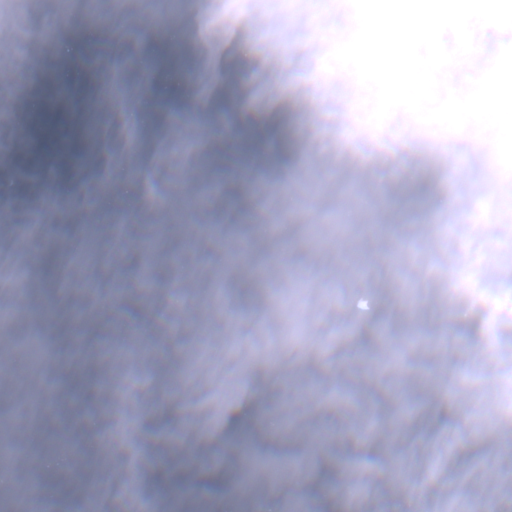Iceberg: (358, 301, 368, 308), (67, 49, 69, 51)
